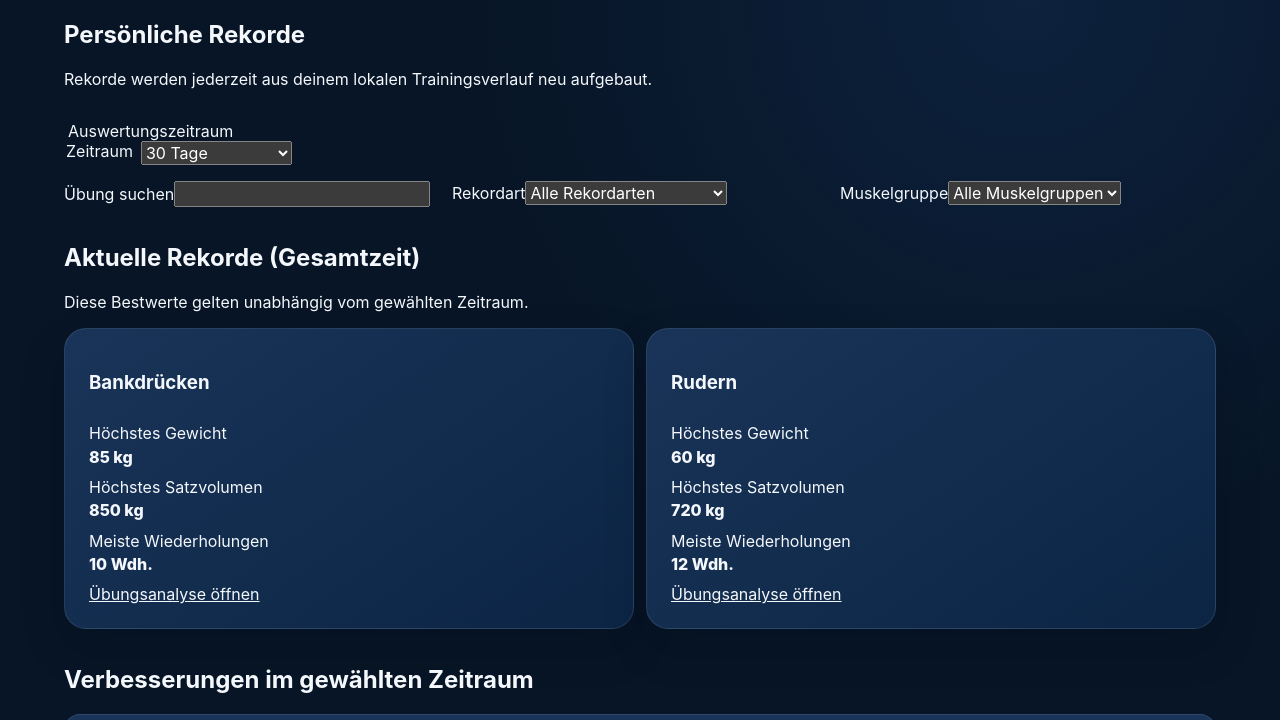
Test: RecordAnalyticsPage › filters current records and history by type, historical muscle and search
The width and height of the screenshot is (1280, 720).
Select "Meiste Wiederholungen" in the dropdown labelled "Rekordart": (626, 193) [526,181,728,205]
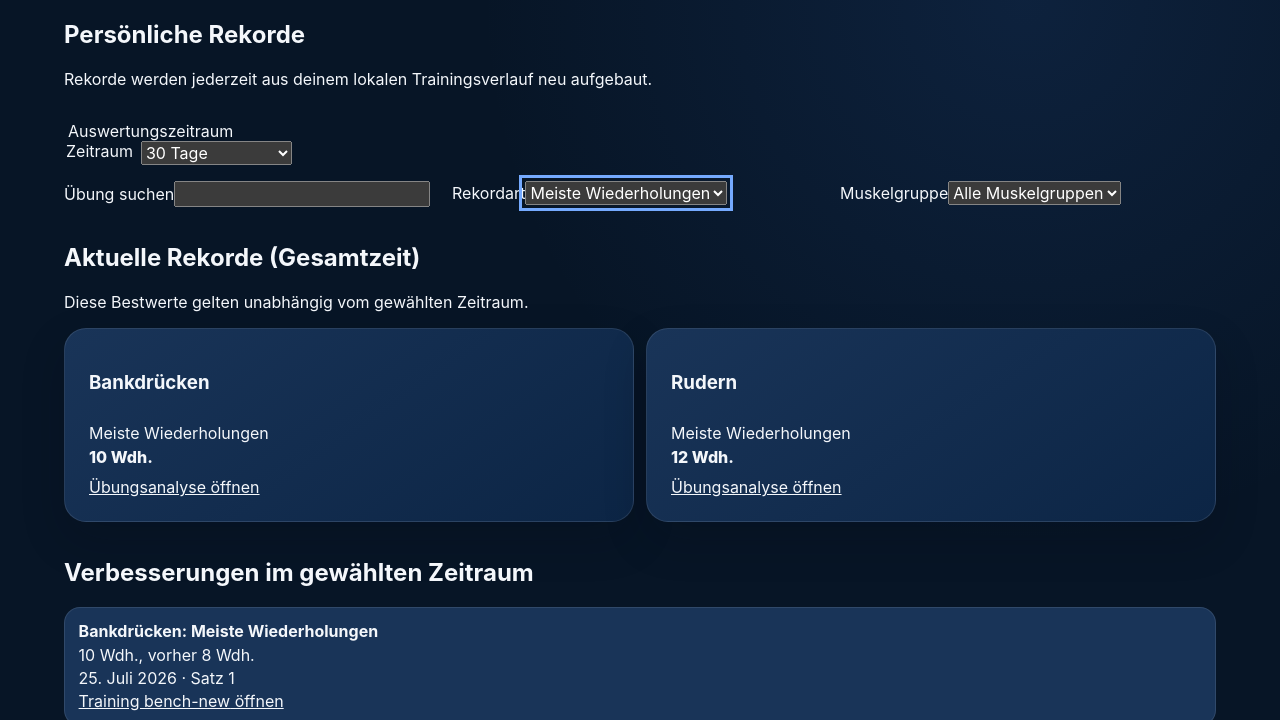
Expected: the text "Höchstes Gewicht" is gone
Select "Rücken" in the dropdown labelled "Muskelgruppe": (1035, 193) [948,181,1121,205]
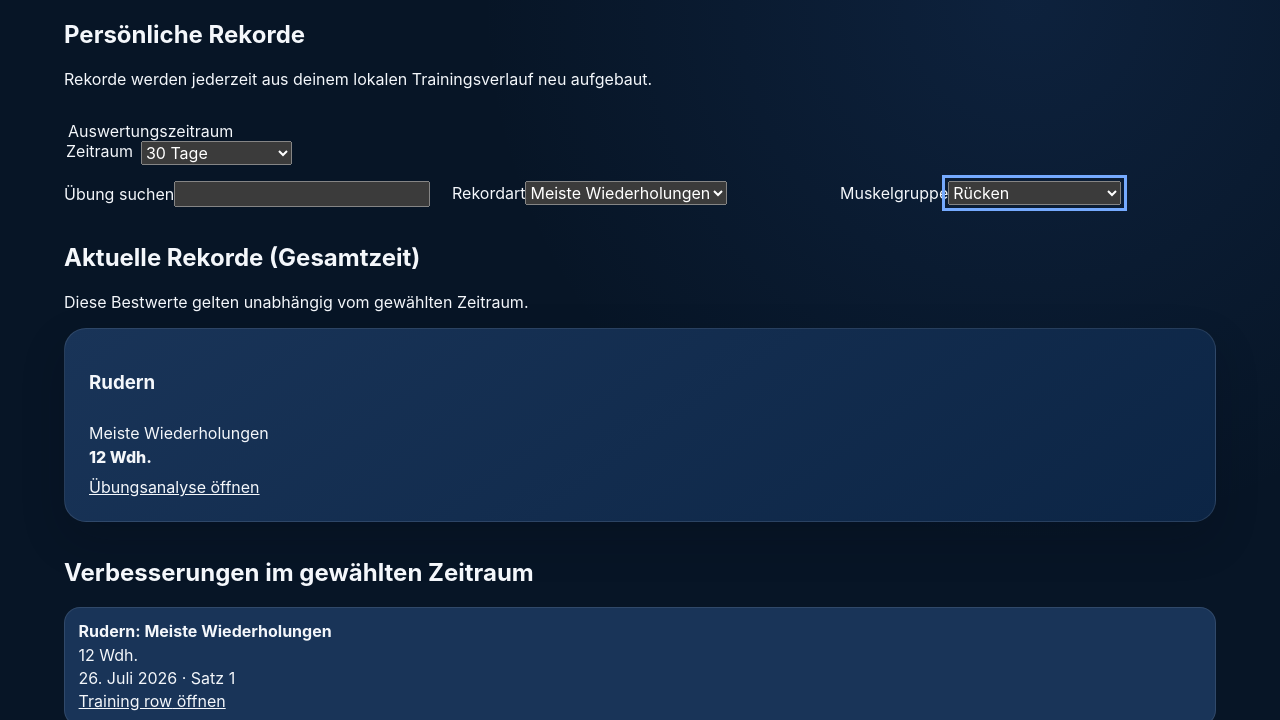
Expected: the element named "Rekorde: Rudern" is shown, [64,328,1216,522]
In the search field labelled "Übung suchen": (302, 194) [174,181,430,207], type "bank"
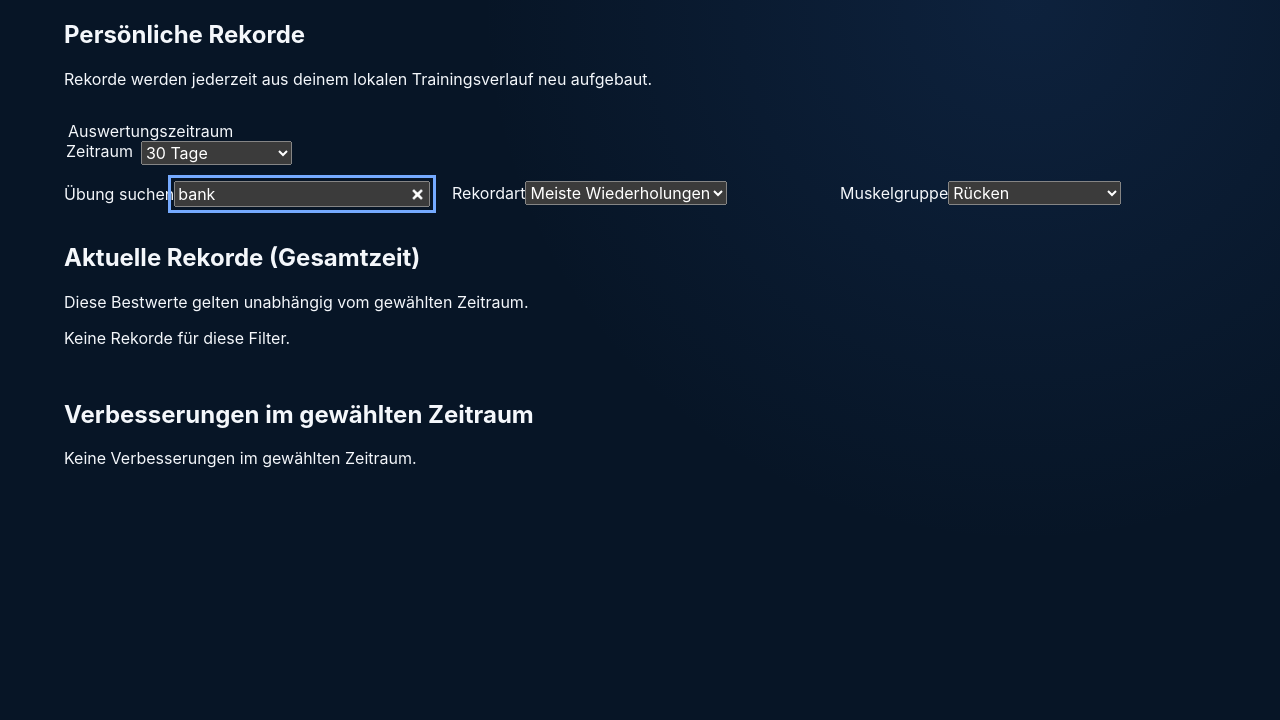
Expected: the text "Keine Rekorde für diese Filter." is shown, [64,328,290,348]
